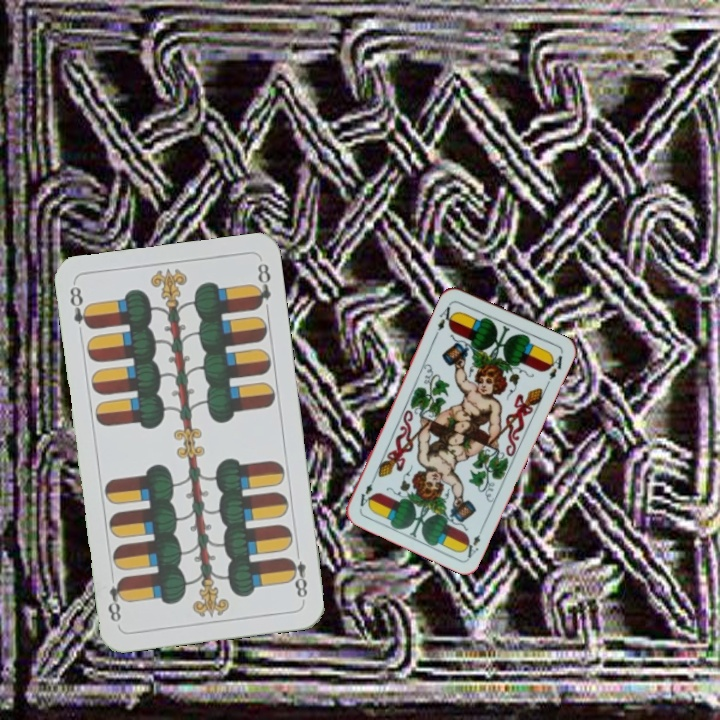E8: (284, 544, 310, 601), (65, 282, 94, 332)
EA: (459, 522, 487, 560), (433, 299, 458, 333)
